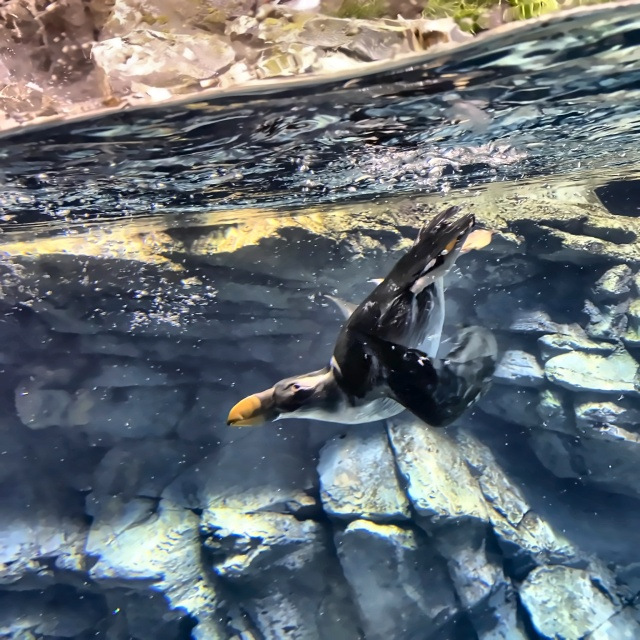puffin: (218, 207, 496, 436)
